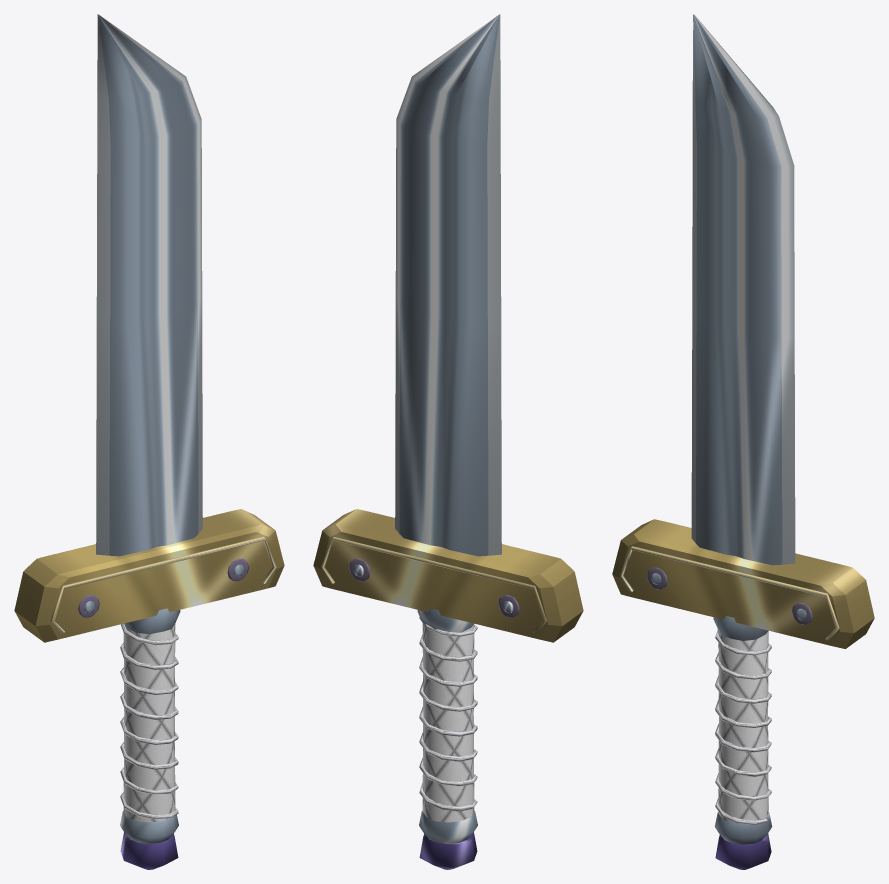
File: mm_kokiri_sword.glb
3 views of the same model, side by side, from view 1: azimuth 30°, elevation 25°; view 2: azimuth 150°, elevation 25°; view 3: azimuth 330°, elevation 25° (orthographic). The views are drawn at different scales.
Visible parts, largest first — view 1: MM Kokiri forged blade fuller face (×6), Rounded brass rectangular guard, MM Kokiri forged blade cutting bevel (×4), Shaped oval leather grip, Raised diagonal leather wrap, Violet Kokiri pommel, Machined guard rim, Kokiri pommel ferrule, Upper Kokiri guard ferrule; view 2: MM Kokiri forged blade fuller face (×6), Rounded brass rectangular guard, MM Kokiri forged blade cutting bevel (×4), Shaped oval leather grip, Raised diagonal leather wrap, Violet Kokiri pommel, Machined guard rim, Kokiri pommel ferrule, Upper Kokiri guard ferrule; view 3: MM Kokiri forged blade fuller face (×6), Rounded brass rectangular guard, MM Kokiri forged blade cutting bevel (×4), Shaped oval leather grip, Raised diagonal leather wrap, Violet Kokiri pommel, Machined guard rim, Kokiri pommel ferrule, Upper Kokiri guard ferrule.
Boxes of the visible parts, x1,y1,x2,y2 form: MM Kokiri forged blade fuller face (×6): (98,14,194,556); Rounded brass rectangular guard: (14,509,284,642); MM Kokiri forged blade cutting bevel (×4): (96,14,202,556); Shaped oval leather grip: (123,624,175,822); Raised diagonal leather wrap: (120,623,178,819); Violet Kokiri pommel: (120,832,178,869); Machined guard rim: (50,536,276,633); Kokiri pommel ferrule: (120,810,178,843); Upper Kokiri guard ferrule: (124,608,180,634); MM Kokiri forged blade fuller face (×6): (403,14,499,556); Rounded brass rectangular guard: (313,509,583,642); MM Kokiri forged blade cutting bevel (×4): (395,14,501,556); Shaped oval leather grip: (422,624,474,822); Raised diagonal leather wrap: (419,617,477,811); Violet Kokiri pommel: (419,832,477,869); Machined guard rim: (321,537,546,633); Kokiri pommel ferrule: (419,810,477,843); Upper Kokiri guard ferrule: (417,608,473,632); MM Kokiri forged blade fuller face (×6): (693,14,772,564); Rounded brass rectangular guard: (612,519,874,648); MM Kokiri forged blade cutting bevel (×4): (691,14,795,565); Shaped oval leather grip: (718,631,768,823); Raised diagonal leather wrap: (715,629,771,824); Violet Kokiri pommel: (715,833,771,869); Machined guard rim: (620,546,839,640); Kokiri pommel ferrule: (714,812,772,844); Upper Kokiri guard ferrule: (713,616,767,640).
Bounding box in the file's own units: 18.48 × 61.37 × 4.12.
8 materials, 7 textured.
